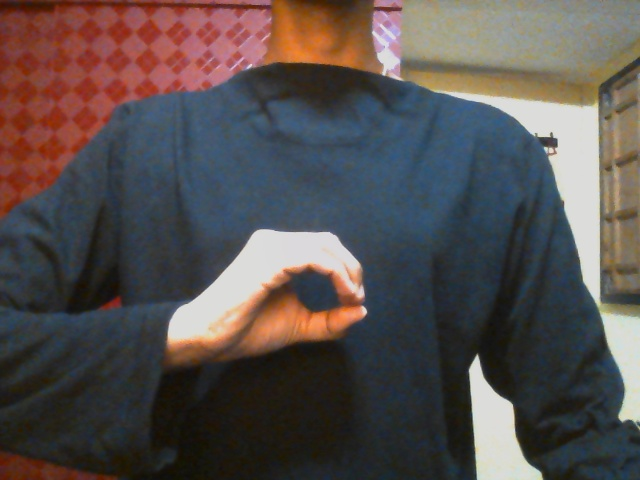O: (208, 227, 369, 363)
